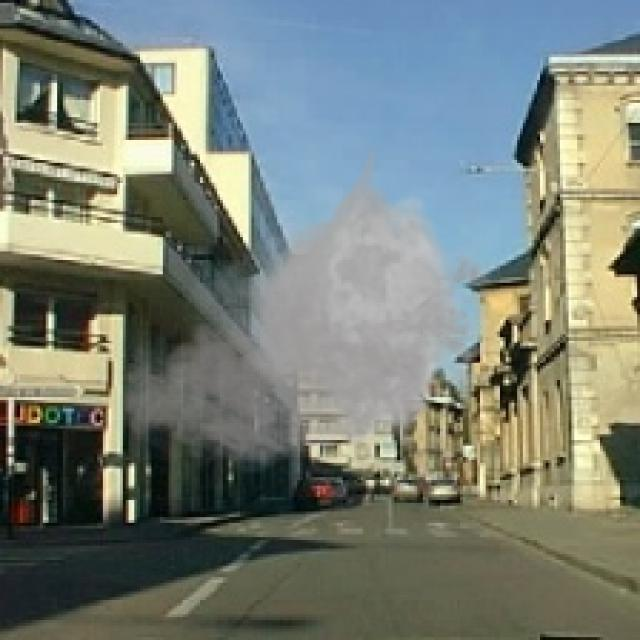Smoke: (114, 137, 506, 483)
